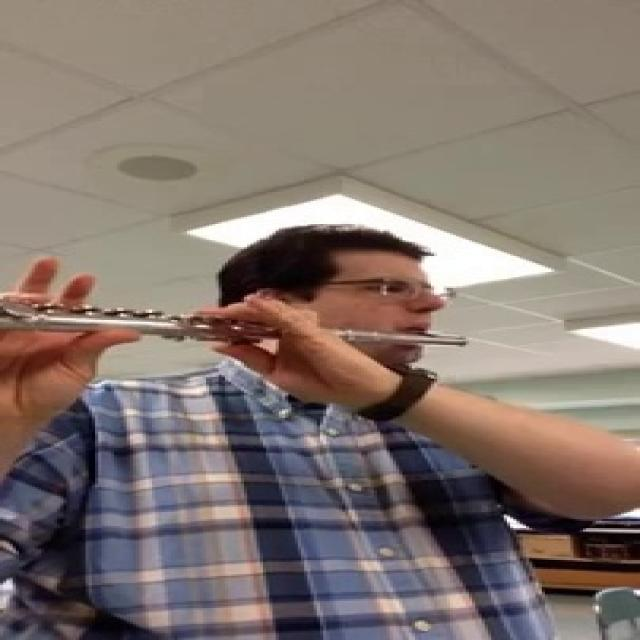Flute: (4, 295, 482, 358)
